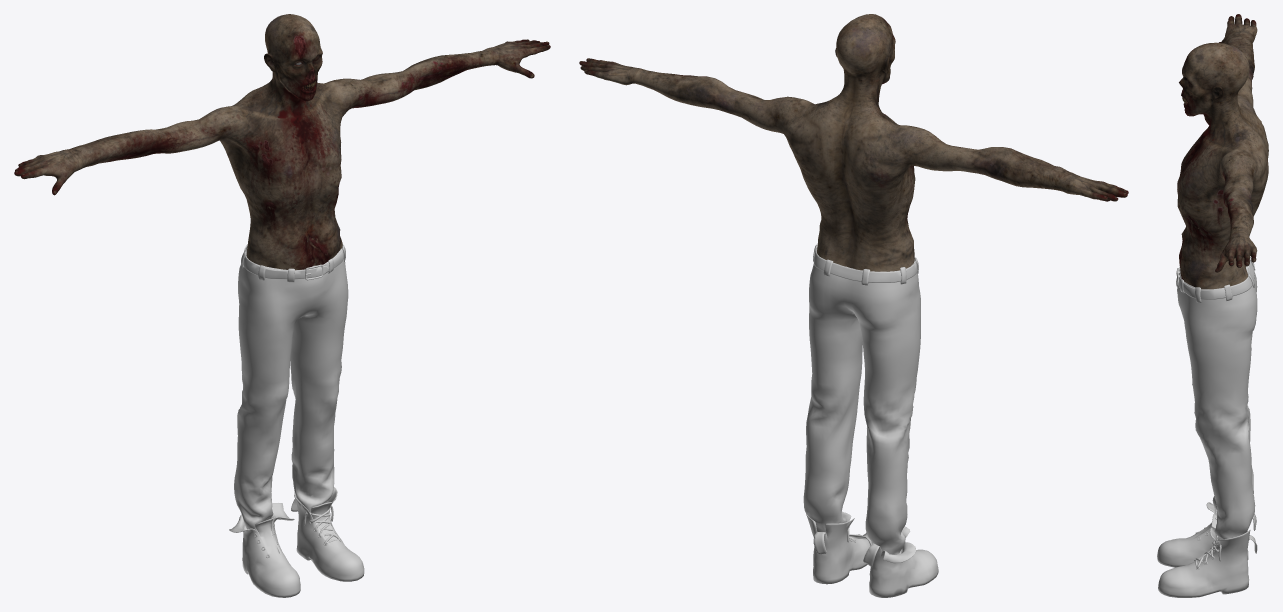
File: normal_enemy.fbx
The picture shows the model from 3 angles, left to right: view 1: azimuth 30°, elevation 25°; view 2: azimuth 150°, elevation 25°; view 3: azimuth 270°, elevation 25°; orthographic projection. The views are drawn at different scales.
Visible parts, largest first — view 1: Ch10; view 2: Ch10; view 3: Ch10.
Part boxes in pixels (bbox=[...]): Ch10: bbox=[14, 14, 550, 597]; Ch10: bbox=[579, 14, 1128, 597]; Ch10: bbox=[1157, 14, 1268, 597].
Size of the model in its own units: 181 by 178 by 33.91.
